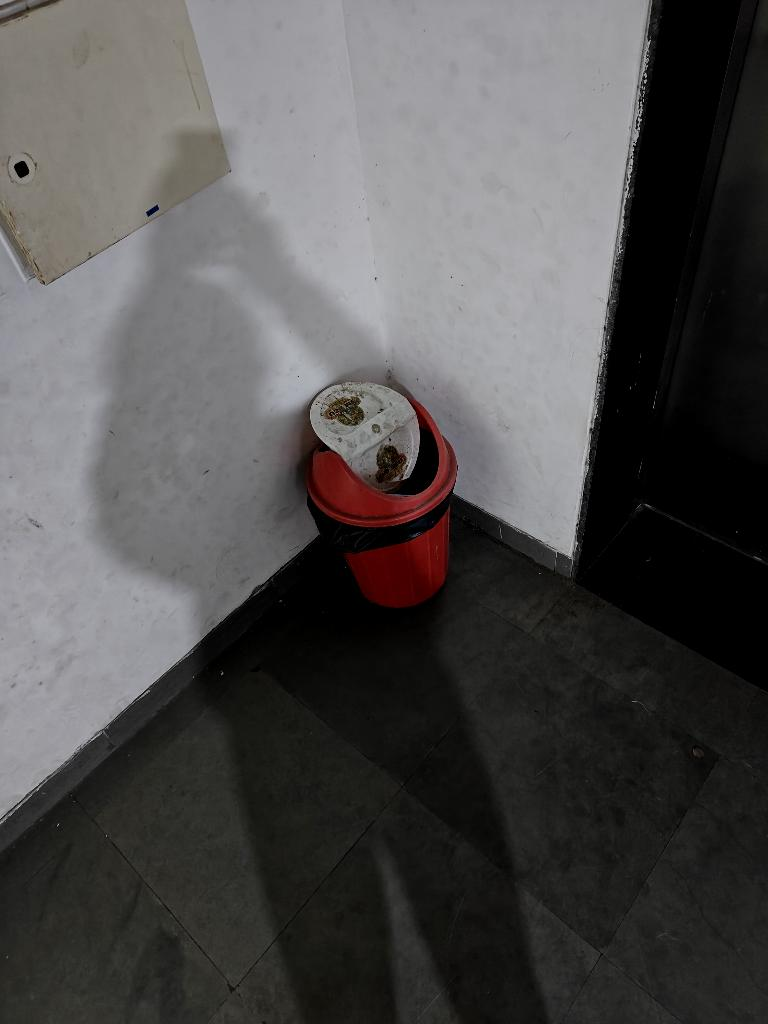dustbin: (274, 359, 479, 655)
